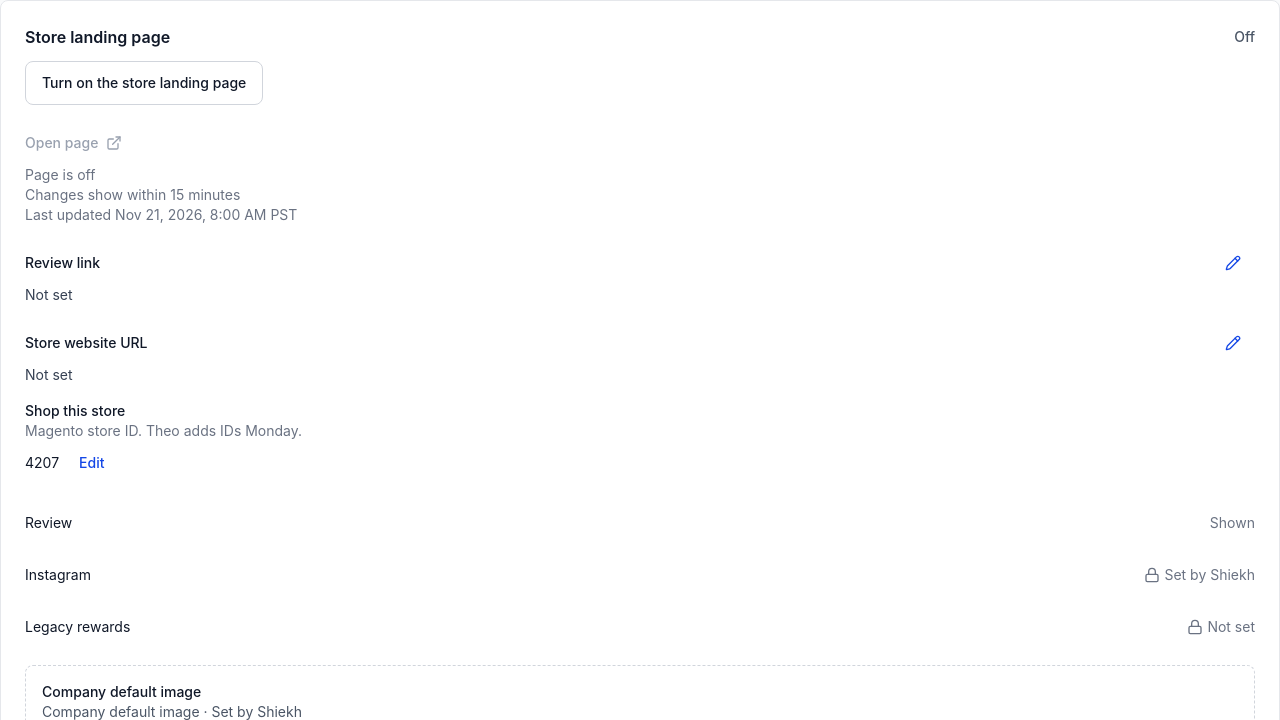
Test: store page screens › shows the lock and confirms on/off once for an Admin
The image size is (1280, 720).
Later steps or results of the test are not shown.
Check: the heading "Store landing page" is shown, box [25,25,170,49]
Check: the text "Set by Shiekh" is shown, box [1144,565,1255,585]
Click the switch: (144, 83) [25,61,263,105]
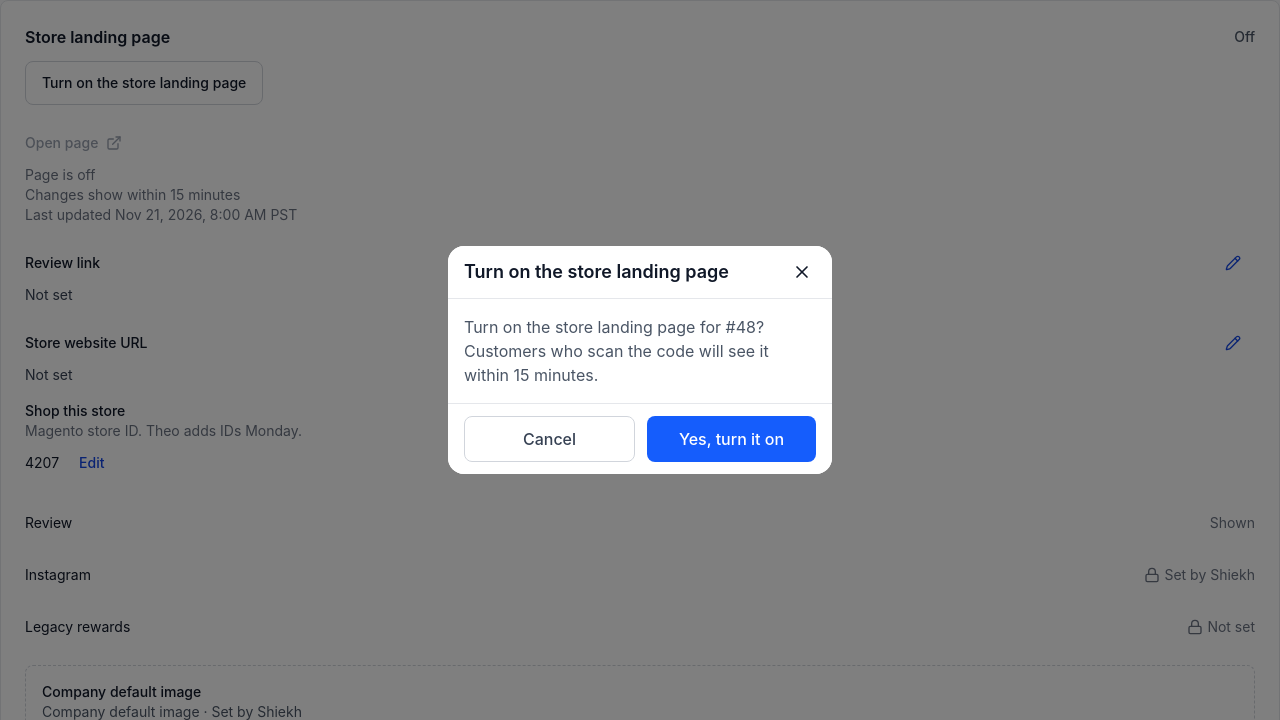
Check: the text "Turn on the store landing page for #48? Customers who scan the code will see it within 15 minutes." is shown, box [464,317,769,385]
Check: the number of dialogs is 1, box [448,246,832,474]
